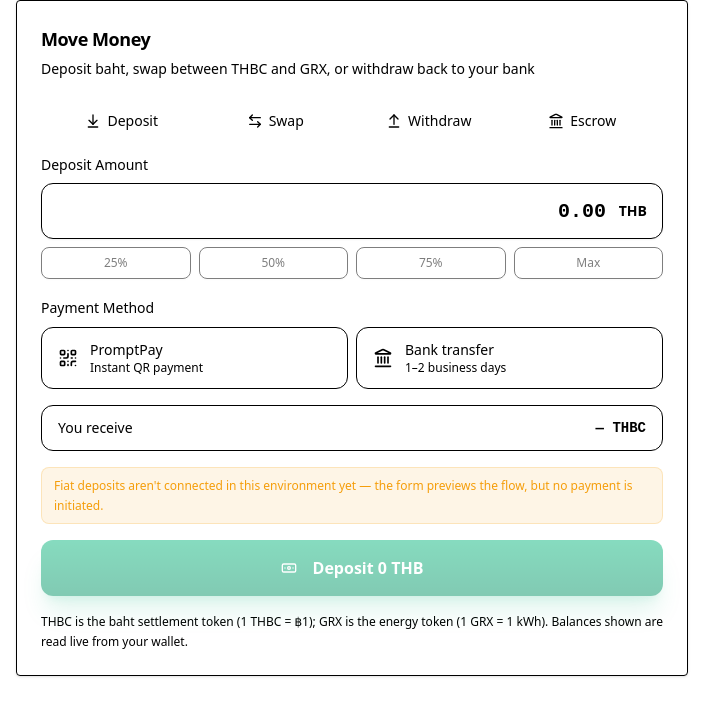
WalletActions › caps withdrawals at the live THBC balance
This screenshot has width=705, height=704.
Press the mouse on the tab with test id "fiat-withdraw-tab" at [429, 121], box [352,107,506,135]
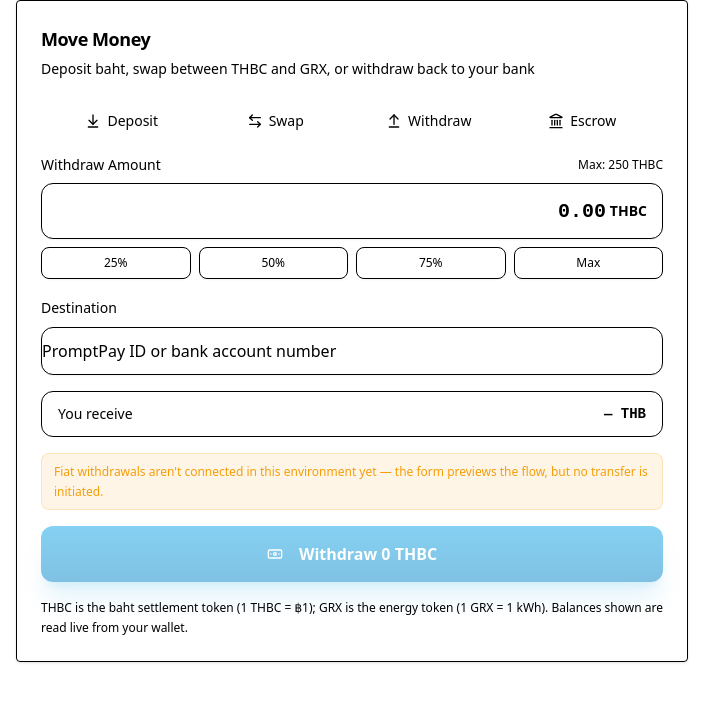
Type "251" into the number field with test id "escrow-amount-input" at [352, 211], box [41,183,663,239]
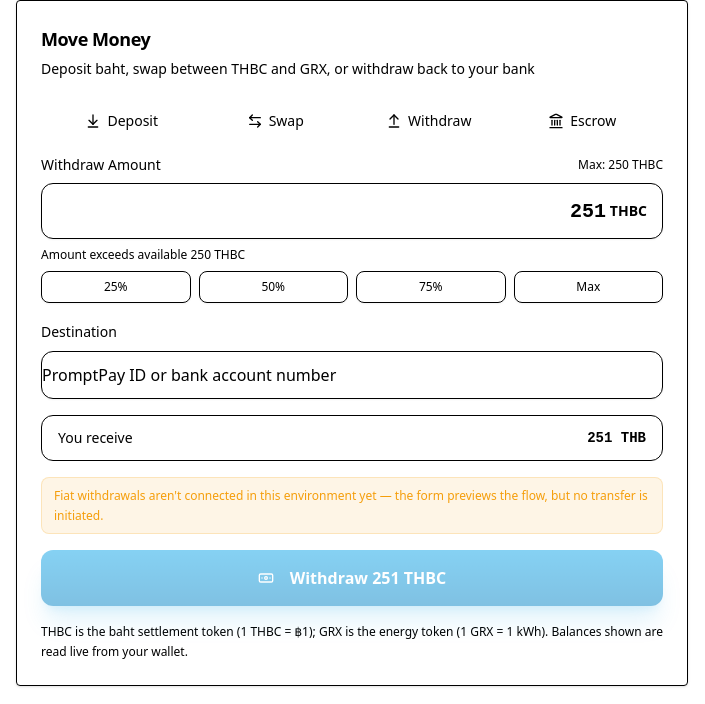
Expected: the message "Amount exceeds available 250 THBC" is shown, [41,246,245,263]
